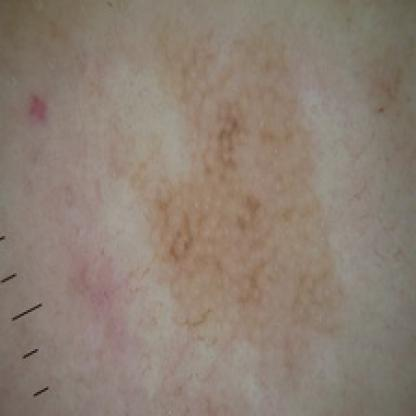malignant: (145, 87, 329, 303)
